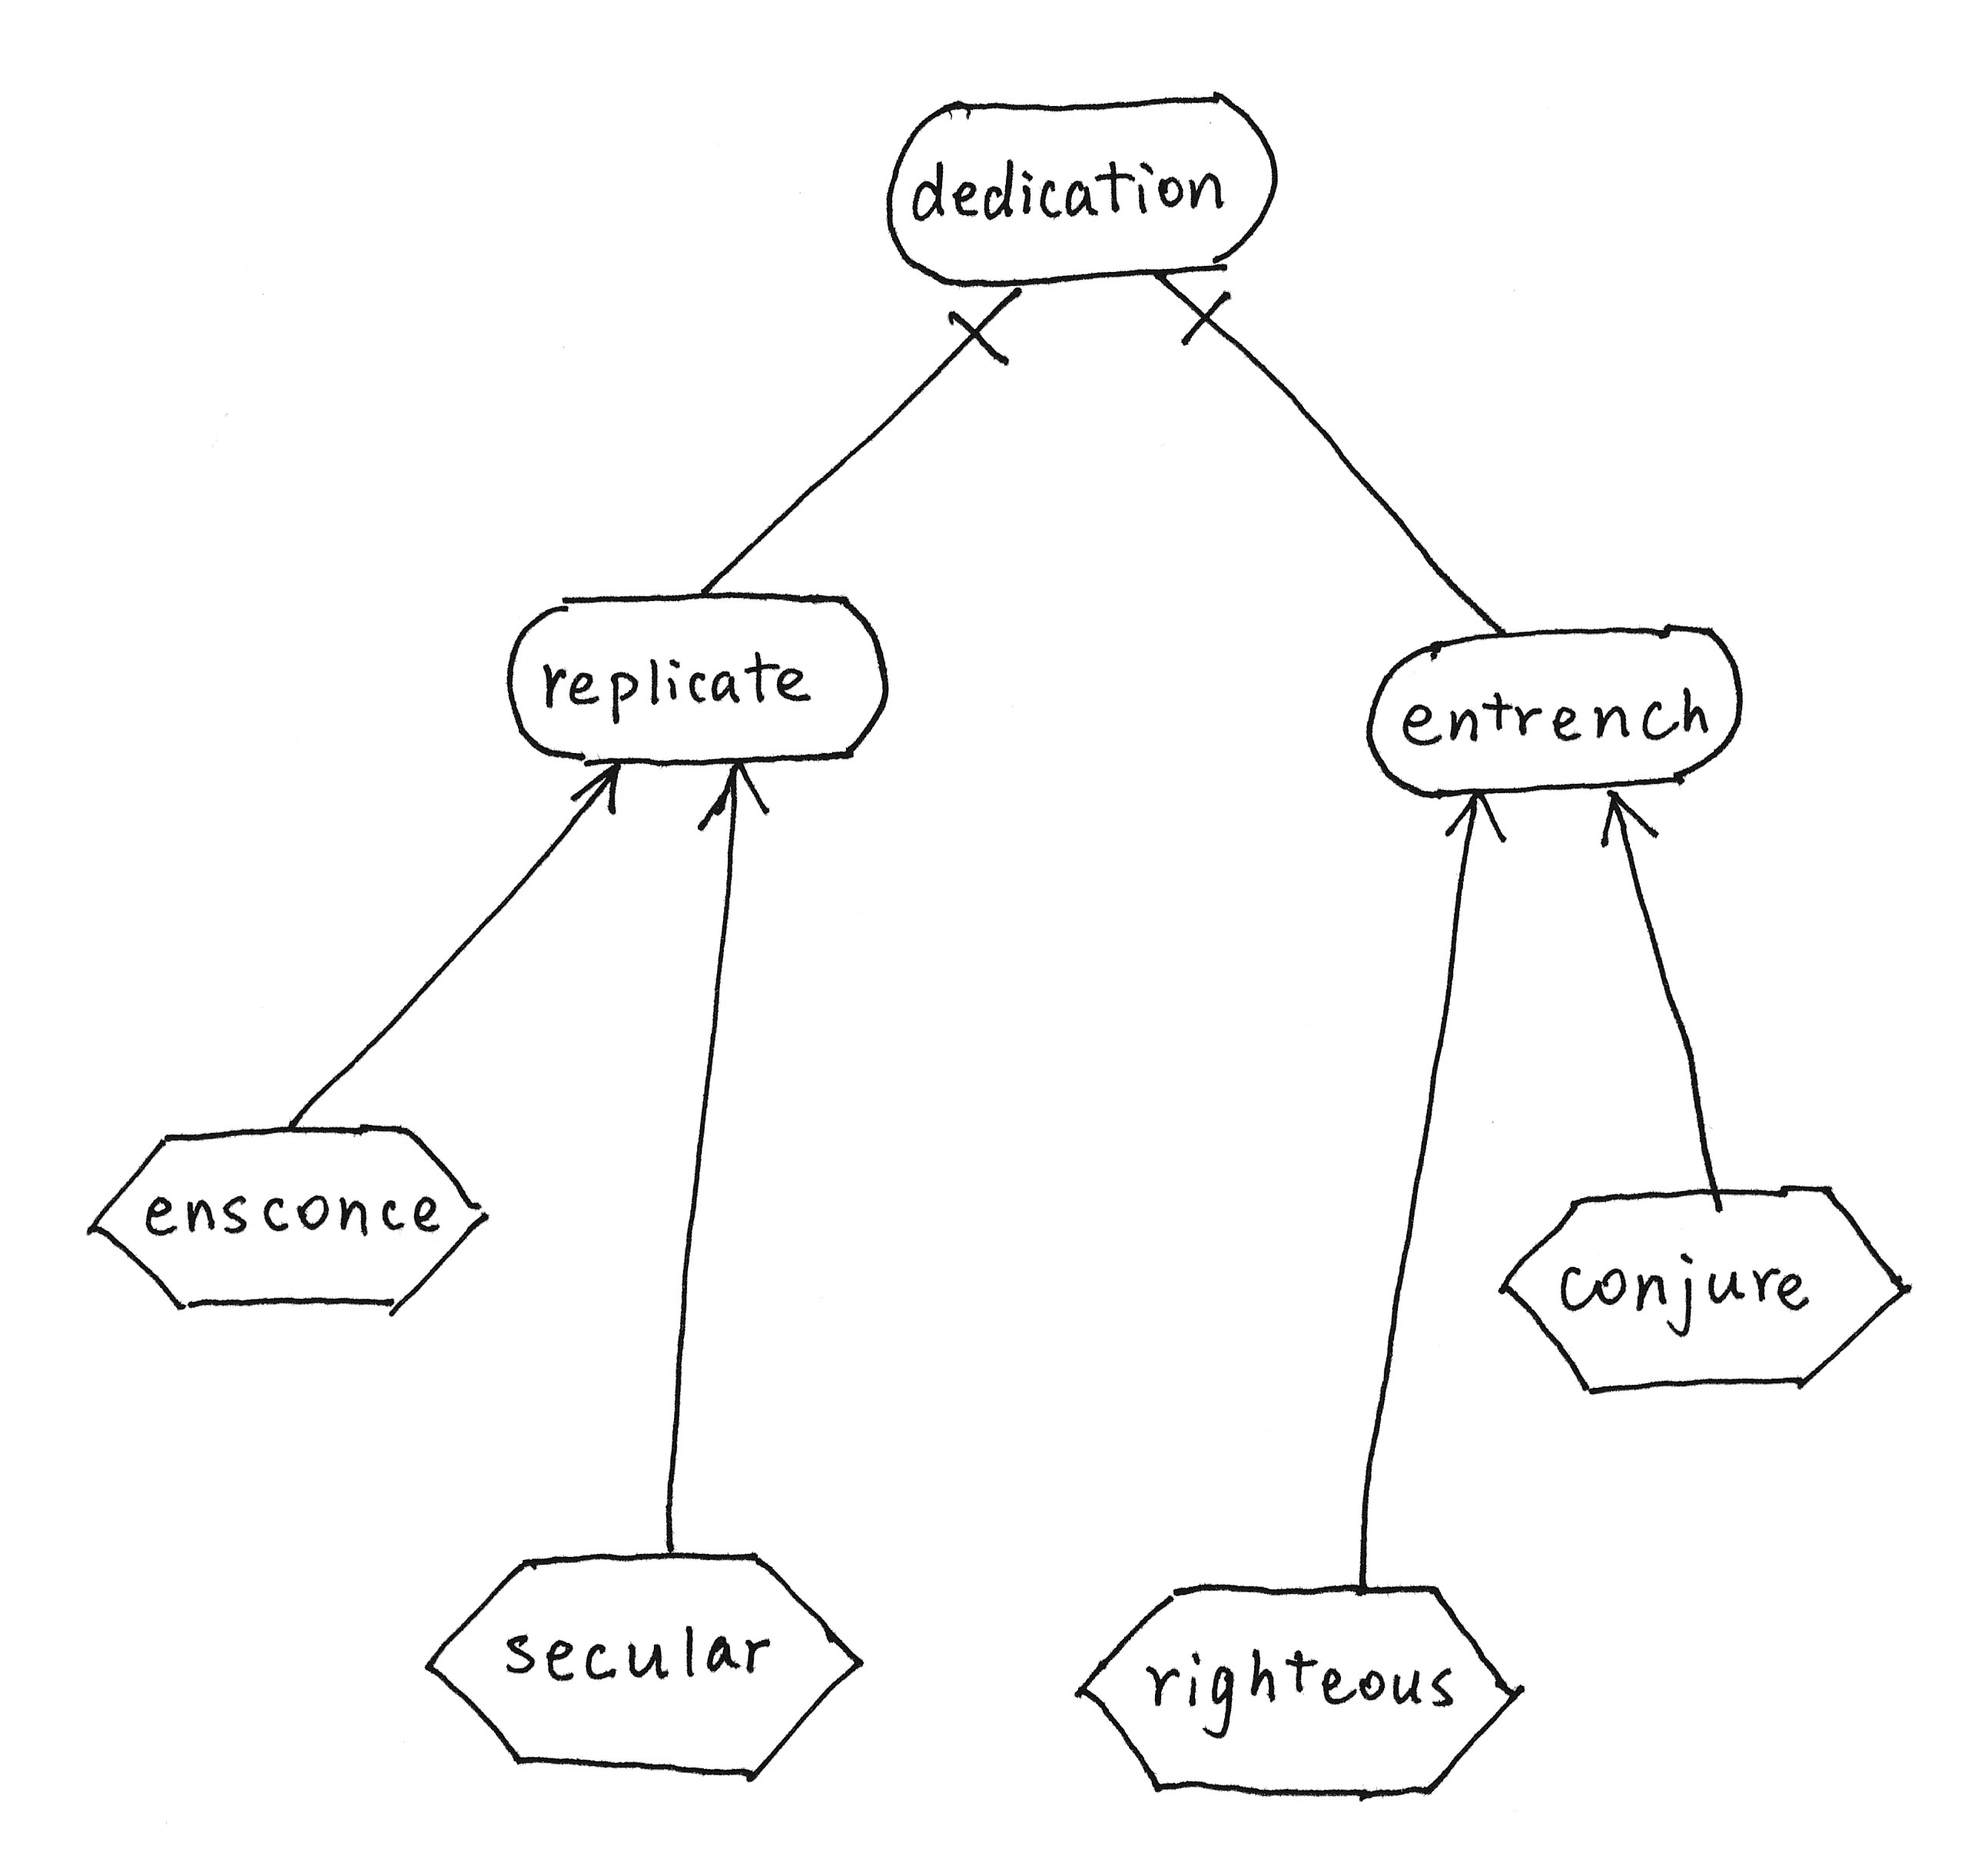and: (929, 281, 1041, 378), (1140, 255, 1245, 357)
arrow: (681, 748, 782, 836), (1572, 775, 1672, 862), (546, 745, 646, 824), (1440, 780, 1519, 868)
goal: (864, 74, 1293, 299), (481, 567, 908, 790), (1347, 599, 1760, 815)
task: (409, 1532, 882, 1795), (1050, 1565, 1544, 1816), (1479, 1166, 1925, 1409), (67, 1108, 504, 1321)
